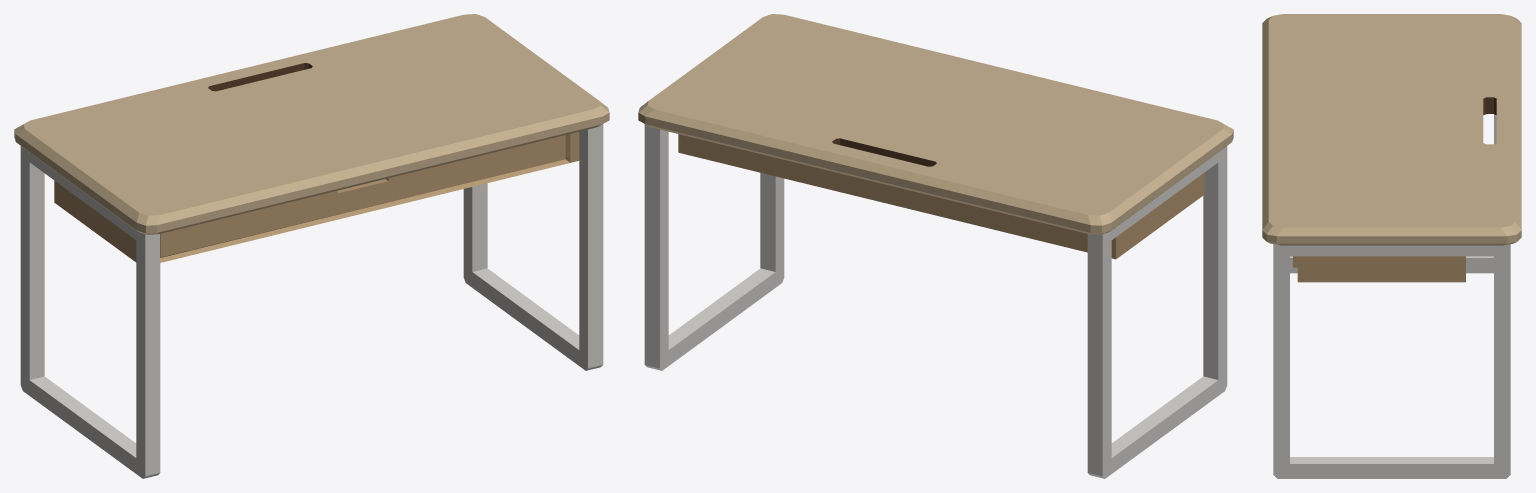
File: office-desk-021eb3.glb
3 views of the same model, side by side, from view 1: azimuth 30°, elevation 25°; view 2: azimuth 150°, elevation 25°; view 3: azimuth 270°, elevation 25° (orthographic). The views are drawn at different scales.
Visible parts, largest first — view 1: office-desk, drawer; view 2: office-desk; view 3: office-desk.
Part boxes in pixels (x1,y1,x2,y2): office-desk: [14, 14, 609, 478]; drawer: [160, 135, 565, 257]; office-desk: [638, 14, 1233, 478]; office-desk: [1262, 14, 1521, 478].
Size of the model in its own units: 1.4 by 0.75 by 0.7.
